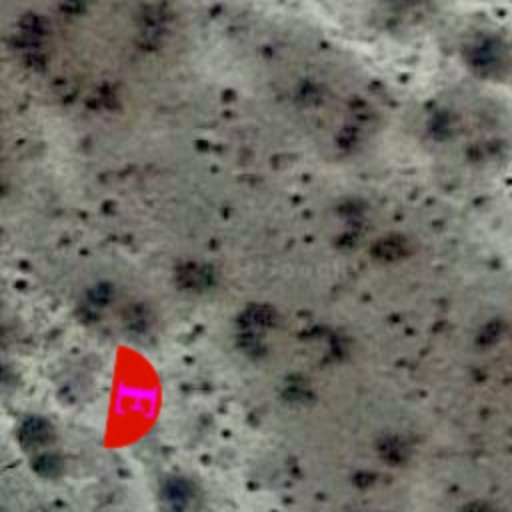semicircle: (76, 340, 196, 460)
